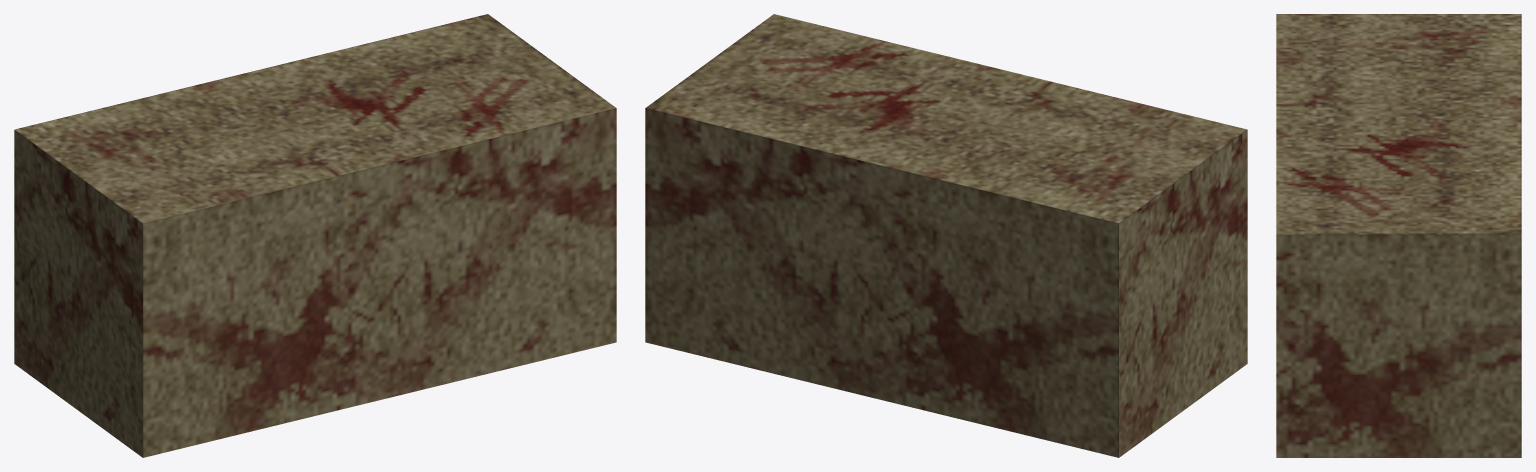
Rendered from SM_EC_Horror_Hay_0.fbx.
The picture shows the model from 3 angles, left to right: view 1: azimuth 30°, elevation 25°; view 2: azimuth 150°, elevation 25°; view 3: azimuth 270°, elevation 25°; orthographic projection. The views are drawn at different scales.
Visible parts, largest first — view 1: SM_EC_Horror_Hay_0; view 2: SM_EC_Horror_Hay_0; view 3: SM_EC_Horror_Hay_0.
Part boxes in pixels (x1,y1,x2,y2): SM_EC_Horror_Hay_0: (14, 14, 616, 457); SM_EC_Horror_Hay_0: (645, 14, 1247, 457); SM_EC_Horror_Hay_0: (1276, 14, 1521, 457).
Size of the model in its own units: 1.95 by 0.9165 by 0.9209.
